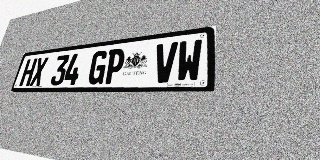3: (50, 54, 70, 86)
4: (62, 53, 84, 85)
G: (87, 50, 109, 85)
H: (19, 58, 38, 86)
P: (103, 48, 126, 84)
V: (152, 42, 178, 83)
W: (176, 39, 203, 82)
X: (29, 57, 49, 86)
